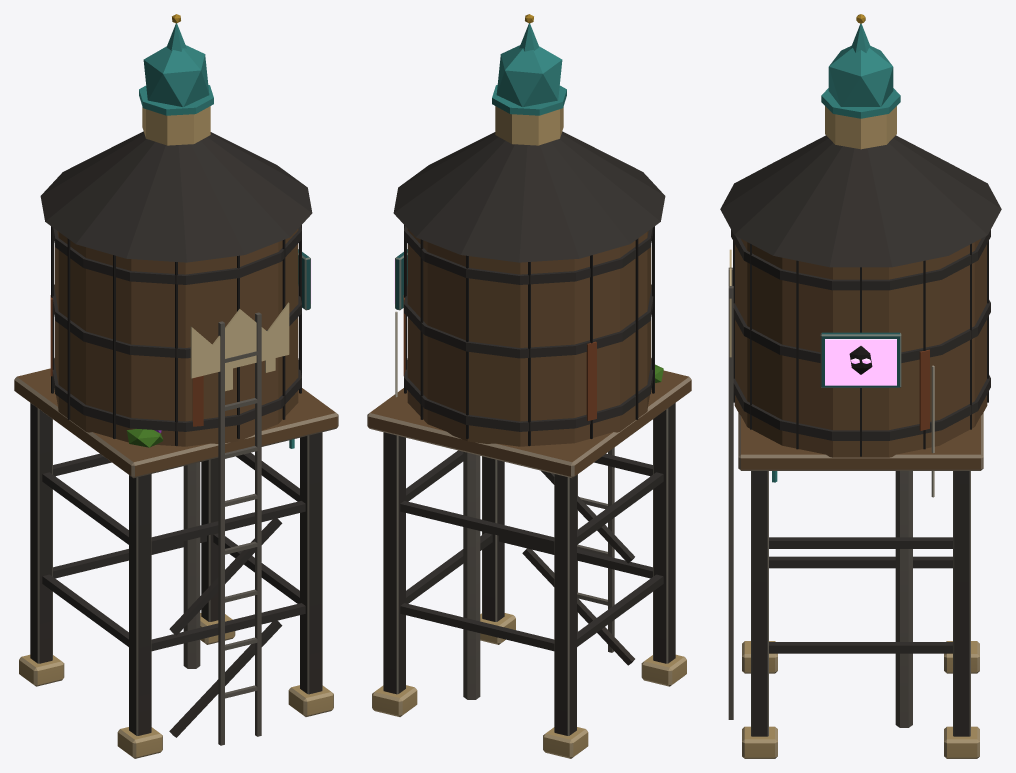
The model's file is n_water_tower.glb.
The picture shows the model from 3 angles, left to right: view 1: azimuth 30°, elevation 25°; view 2: azimuth 150°, elevation 25°; view 3: azimuth 270°, elevation 25°; orthographic projection. The views are drawn at different scales.
Visible parts, largest first — view 1: n_water_tower; view 2: n_water_tower; view 3: n_water_tower.
Part boxes in pixels (x1,y1,x2,y2): n_water_tower: [14, 14, 338, 758]; n_water_tower: [367, 14, 691, 758]; n_water_tower: [720, 14, 1001, 758].
Size of the model in its own units: 3.91 by 10.64 by 3.9.
